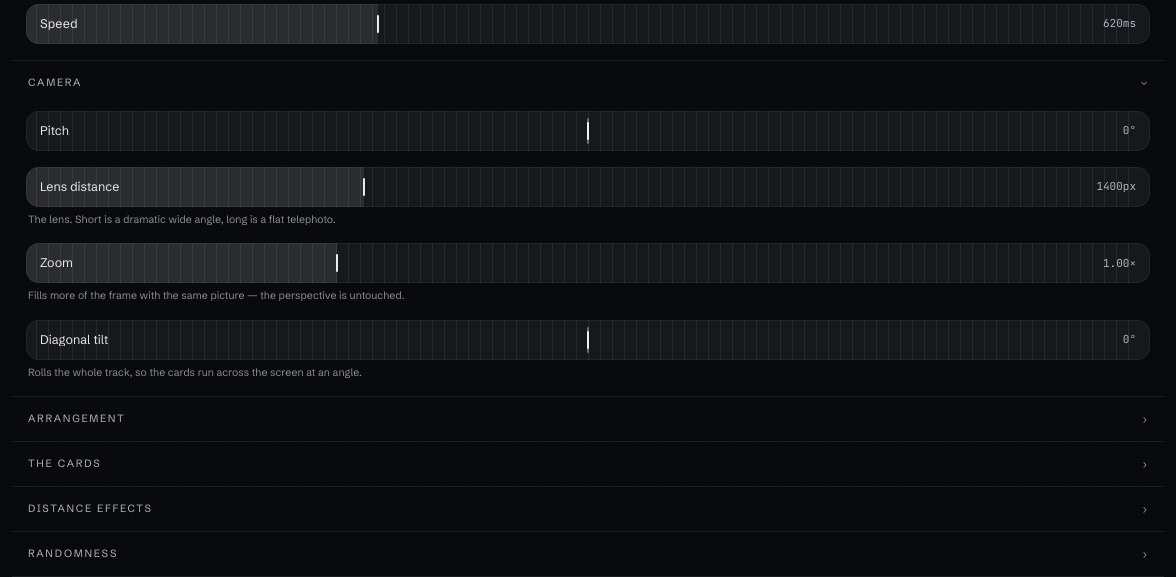
Scenario: the control panel › keeps one open at a time, so the list never runs away
The width and height of the screenshot is (1176, 577).
(page scrolled)
What coordinates should you click on to do the following:
click the button "The cards ›"
I would click on:
 (65, 464)
Its box is x1=12 y1=442 x2=1164 y2=486.
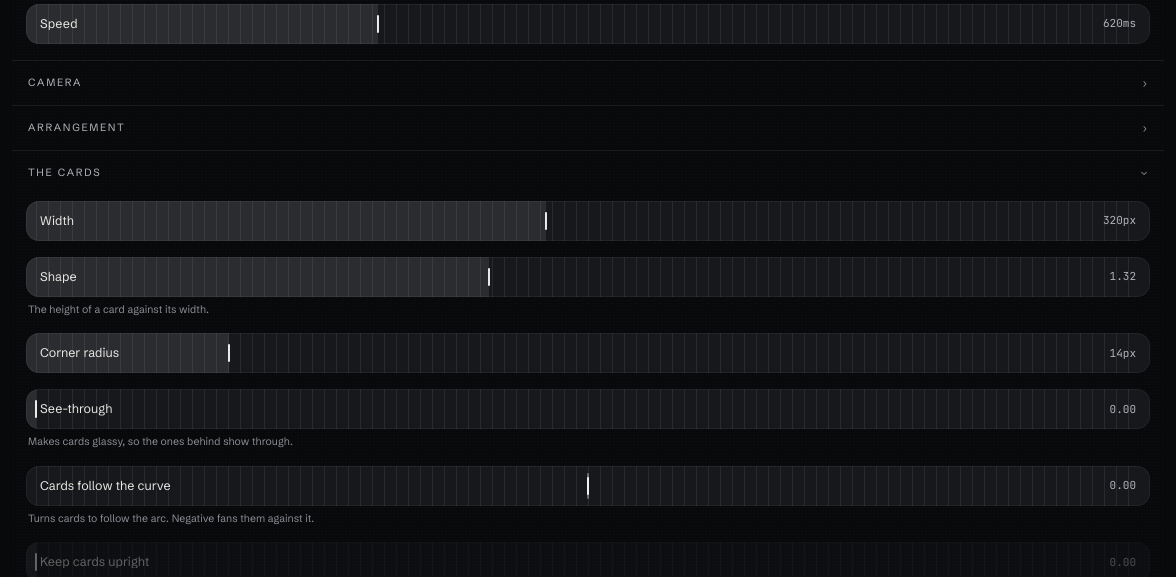
Expected: the slider "Corner radius" is shown, x1=40 y1=347 x2=119 y2=360
Expected: the slider "Pitch" is gone
What coordinates should you click on to do the following:
click the button "The cards ›"
I would click on:
 (65, 172)
Its box is x1=12 y1=151 x2=1164 y2=195.
(page scrolled)
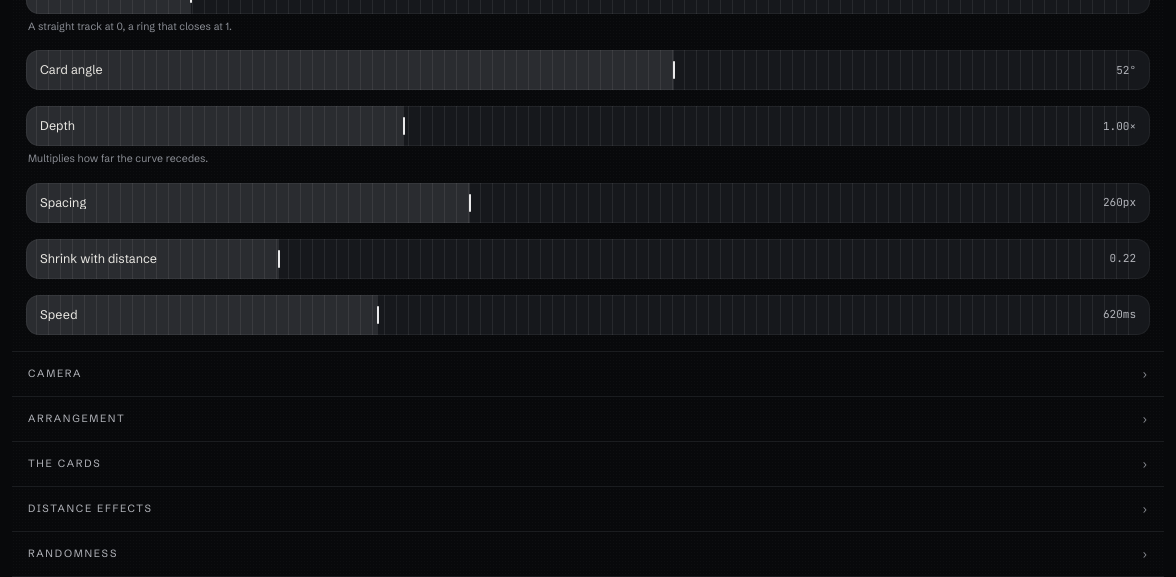
Expected: the slider "Corner radius" is gone
